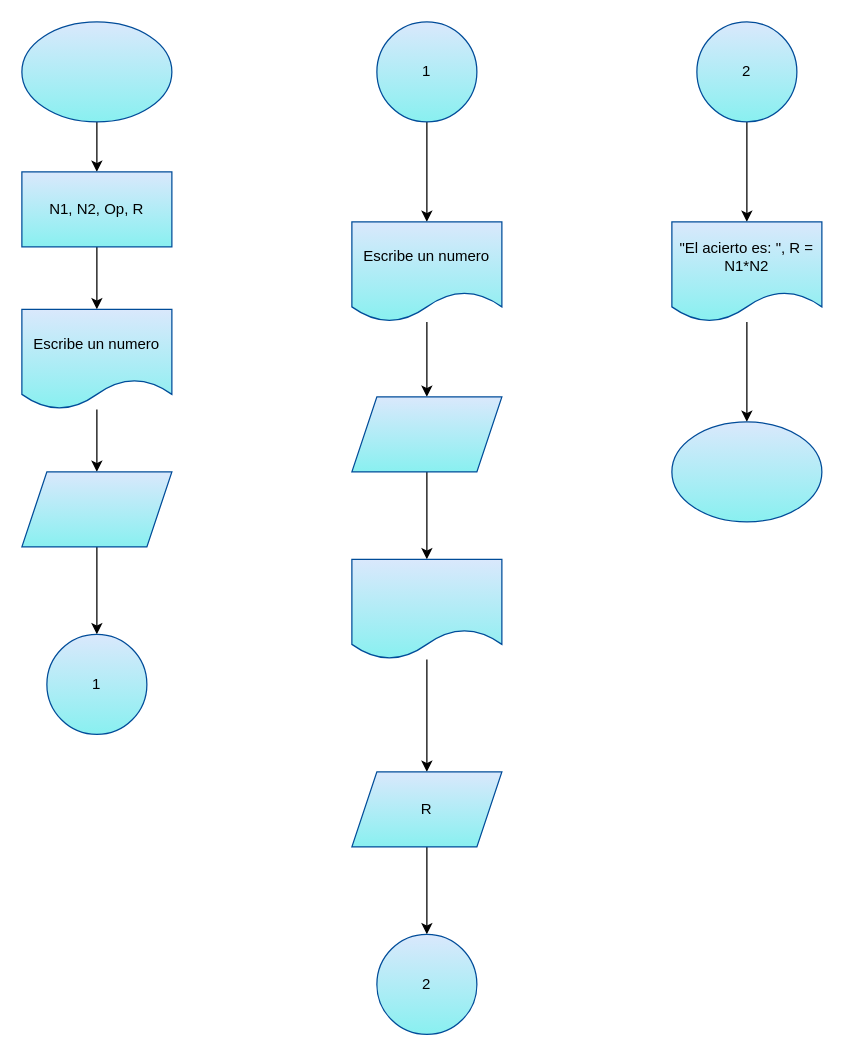
The diagram is 844 pixels wide and 1056 high, and some of its shapes have lost their labels. The centre of each missing label's shape, as x and y in pixels:
FIN: (x=746, y=471)
INICIO: (x=96, y=71)
N1: (x=96, y=509)
N1 "*" N2 "=": (x=426, y=608)
N2: (x=426, y=434)
